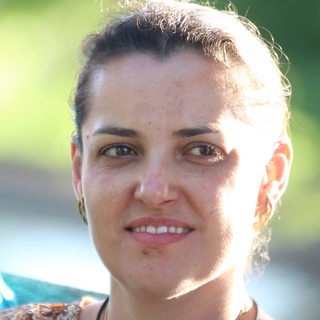eye: (177, 140, 228, 165), (95, 139, 144, 164)
